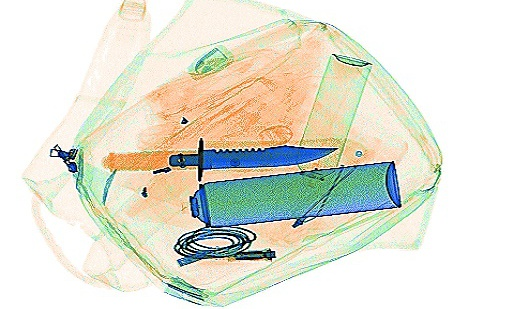knife: (100, 136, 341, 182)
pressure: (174, 157, 403, 227), (290, 49, 373, 187)
